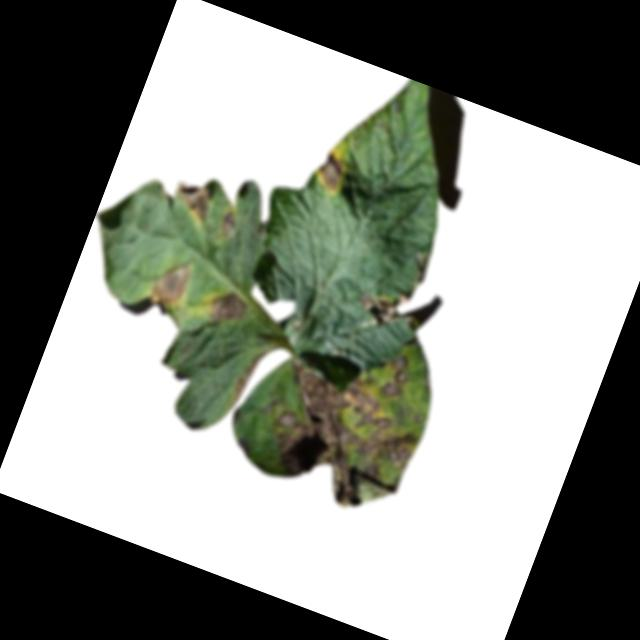Early_blight: (244, 357, 431, 524), (142, 249, 197, 317), (354, 279, 407, 332), (226, 345, 266, 412), (164, 177, 217, 226), (202, 286, 250, 332), (310, 146, 352, 194), (377, 349, 415, 399), (214, 204, 241, 237)
